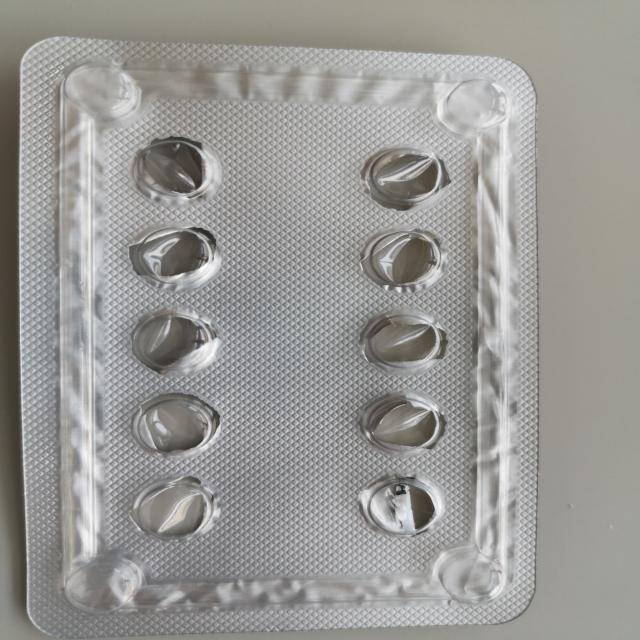Empty: (126, 309, 223, 378), (128, 391, 226, 459), (129, 475, 225, 543), (129, 136, 222, 204), (358, 308, 452, 374), (358, 225, 449, 292), (131, 225, 226, 289), (361, 144, 449, 212), (359, 391, 451, 454), (356, 475, 444, 540)
